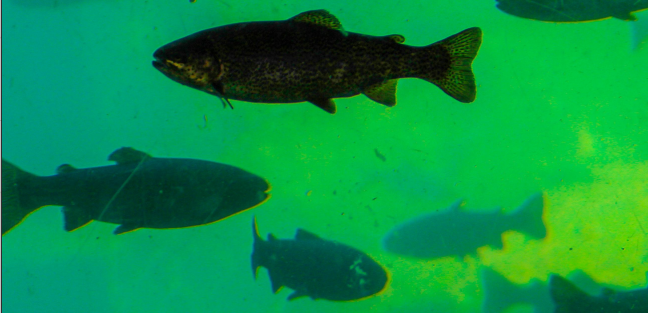fishLarge: (150, 9, 483, 115), (2, 145, 270, 236), (383, 191, 549, 264), (250, 216, 389, 302), (481, 269, 626, 312), (549, 273, 648, 313)
